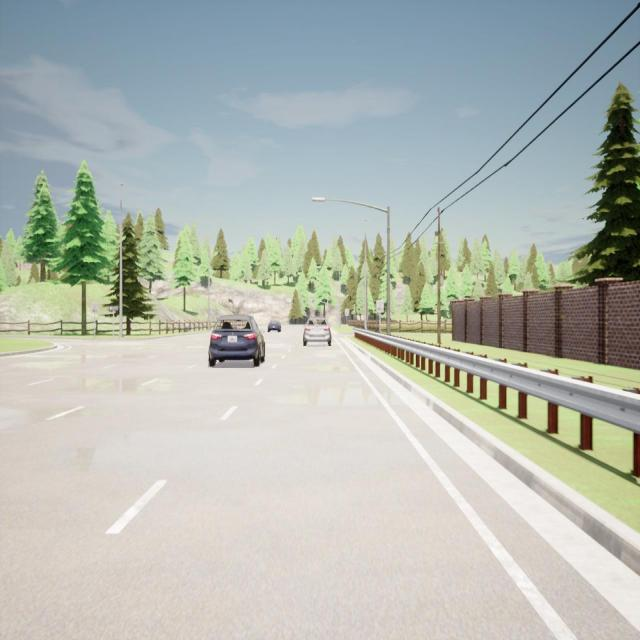Traffic_Signs: (376, 300, 384, 313), (92, 304, 98, 313), (109, 306, 118, 310), (345, 309, 349, 316)
Vehicle: (208, 314, 266, 367), (303, 316, 332, 346), (268, 320, 282, 333)
